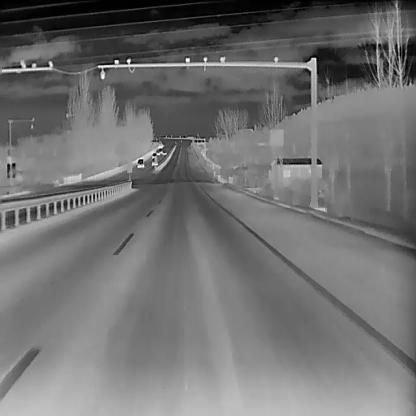car: (136, 158, 144, 168), (151, 156, 158, 166), (152, 152, 157, 158), (158, 147, 162, 154), (155, 150, 160, 155), (162, 150, 167, 155)
